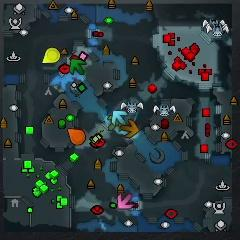p4: (42, 47, 60, 63)
p5: (67, 128, 86, 145)
x1: (118, 193, 133, 209)
x2: (107, 115, 120, 130)
x3: (112, 109, 127, 125)
x4: (70, 58, 86, 75)
x5: (121, 120, 139, 137)
